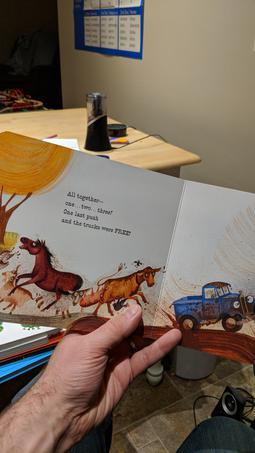text block: (58, 186, 138, 238)
